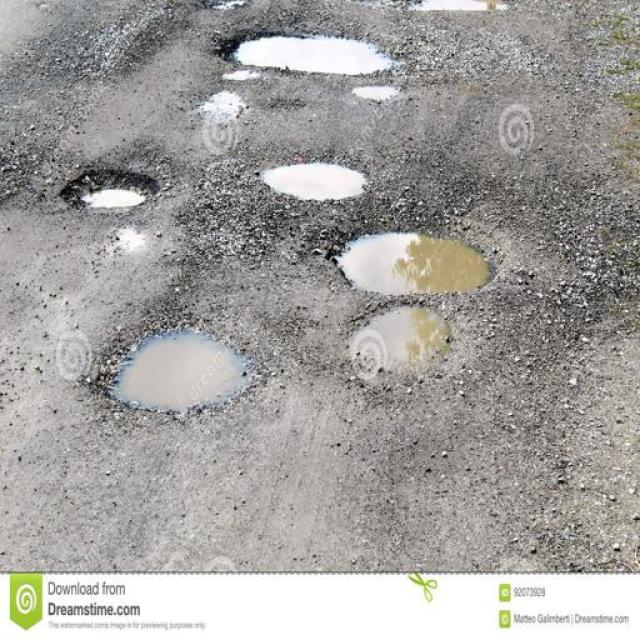puddle: (344, 233, 492, 297), (124, 332, 250, 407), (240, 29, 400, 81), (360, 313, 449, 374), (269, 162, 367, 208)
